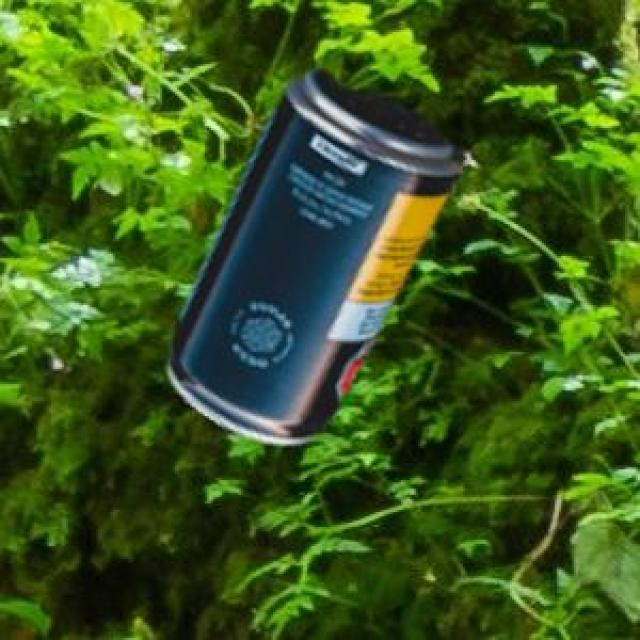logam: (165, 67, 458, 441)
